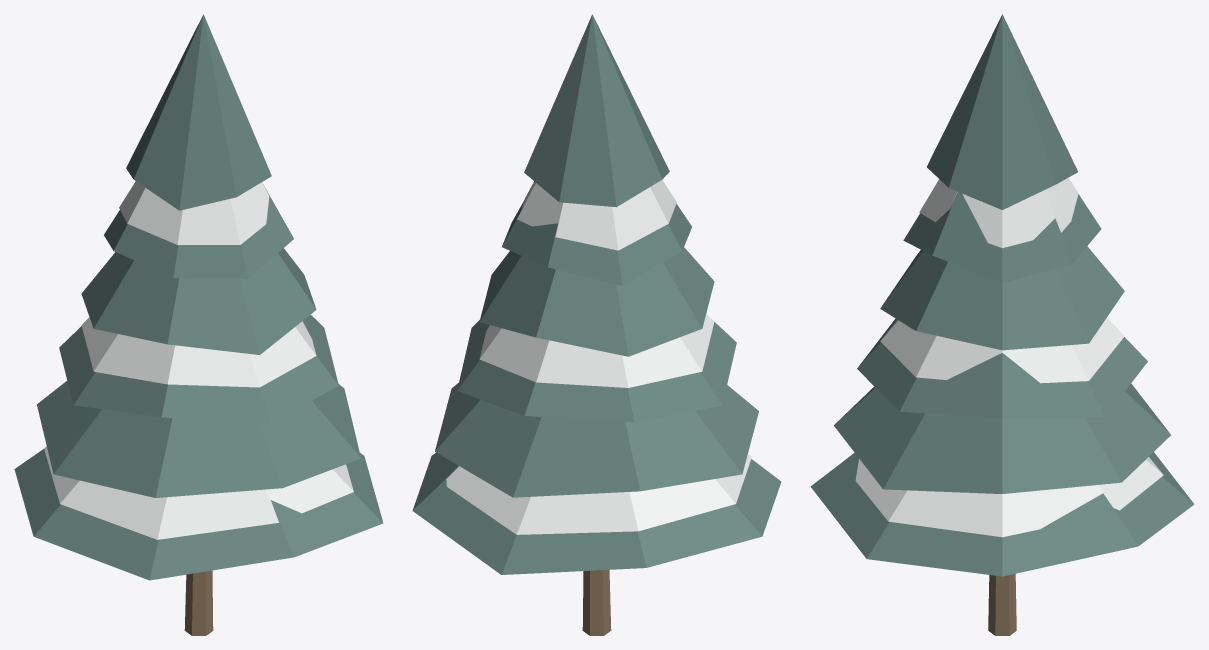
3 renders of one model, left to right at view 1: azimuth 30°, elevation 25°; view 2: azimuth 150°, elevation 25°; view 3: azimuth 270°, elevation 25°, orthographic.
Size of the model in its own units: 8.6 by 15.29 by 8.6.
